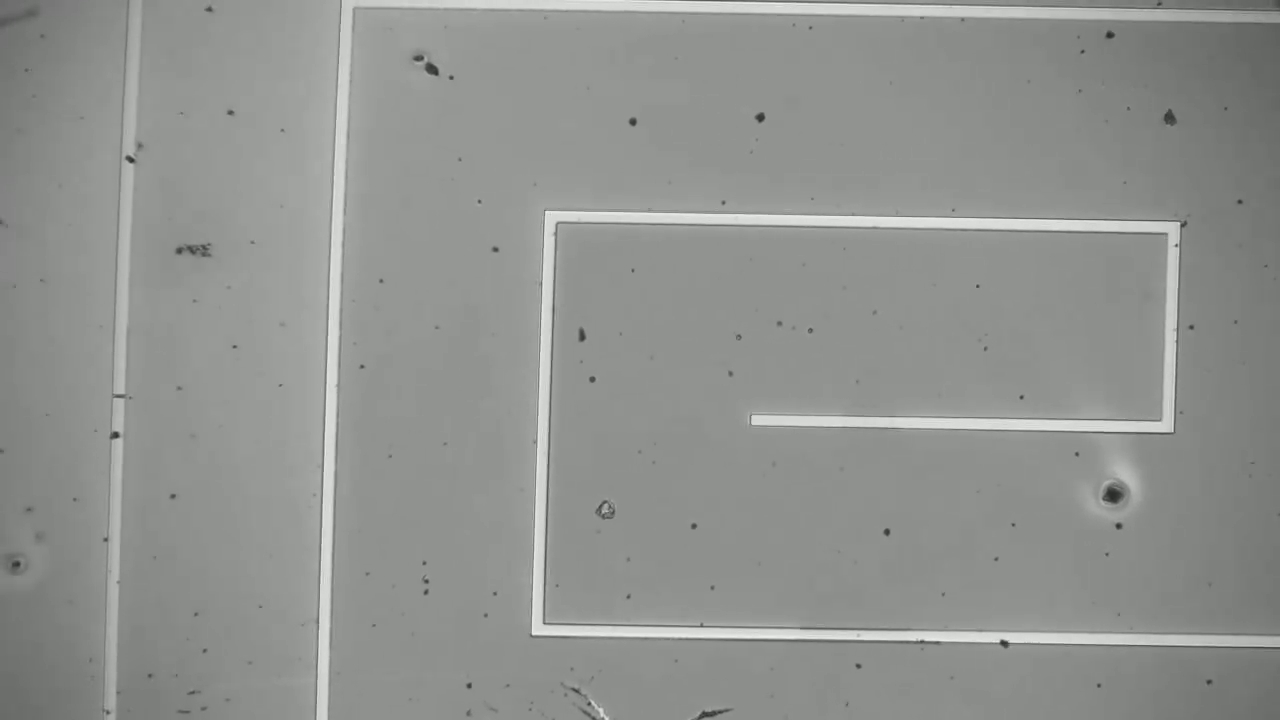open: (106, 383, 135, 408)
stains_enbedded: (114, 144, 140, 169), (106, 422, 124, 443)
